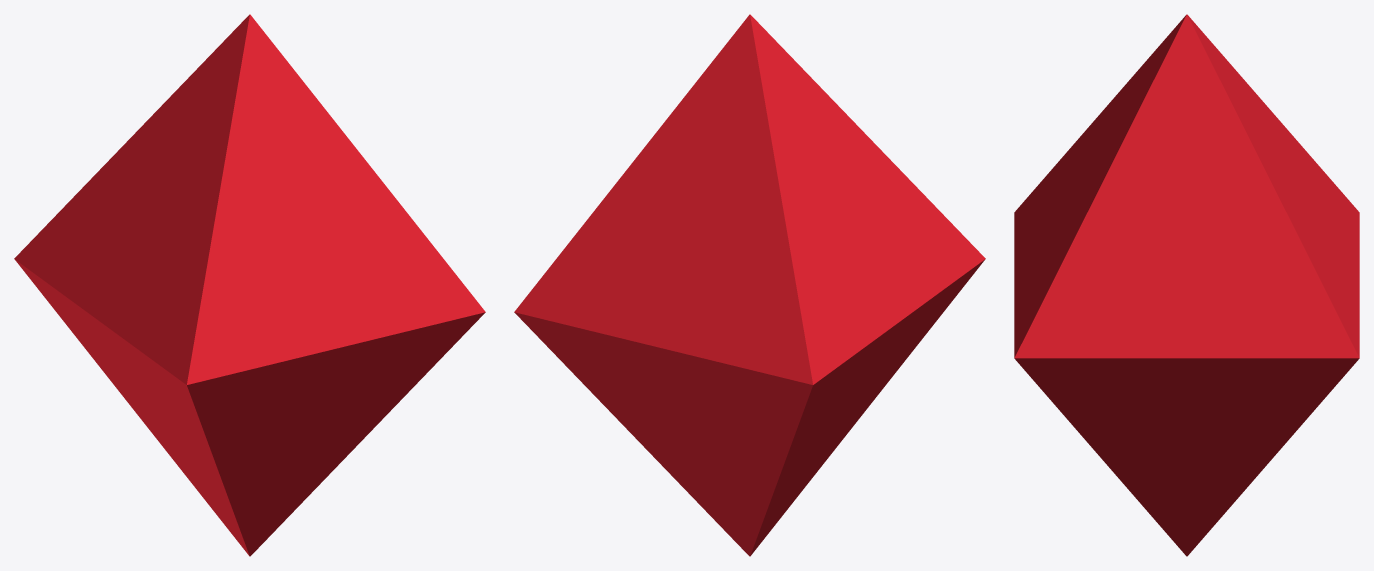
File: diamond red.glb
The picture shows the model from 3 angles, left to right: view 1: azimuth 30°, elevation 25°; view 2: azimuth 150°, elevation 25°; view 3: azimuth 270°, elevation 25°; orthographic projection.
Visible parts, largest first — view 1: diamond; view 2: diamond; view 3: diamond.
Part boxes in pixels (bbox=[...]): diamond: bbox=[14, 14, 485, 556]; diamond: bbox=[514, 14, 985, 556]; diamond: bbox=[1014, 14, 1359, 556].
Size of what is drawn, in the model's own units: 0.5 by 0.8674 by 0.5.
